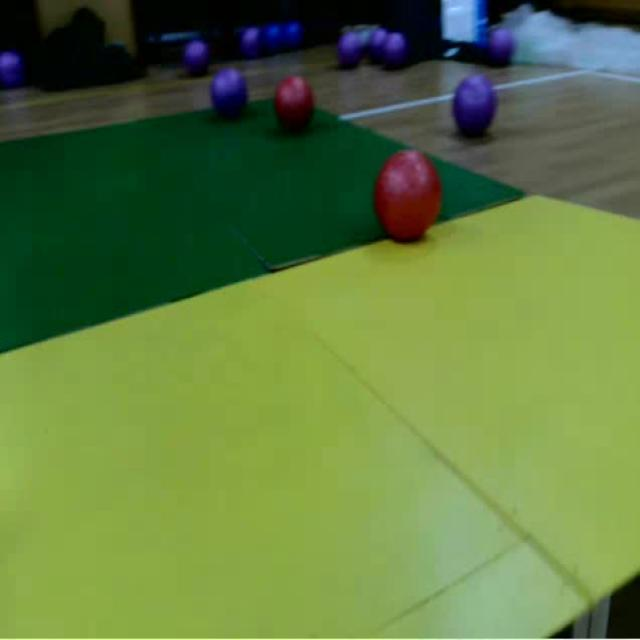purple_ball: (453, 72, 498, 132), (210, 68, 247, 116)
red_ball: (374, 153, 440, 241), (274, 76, 313, 130)
